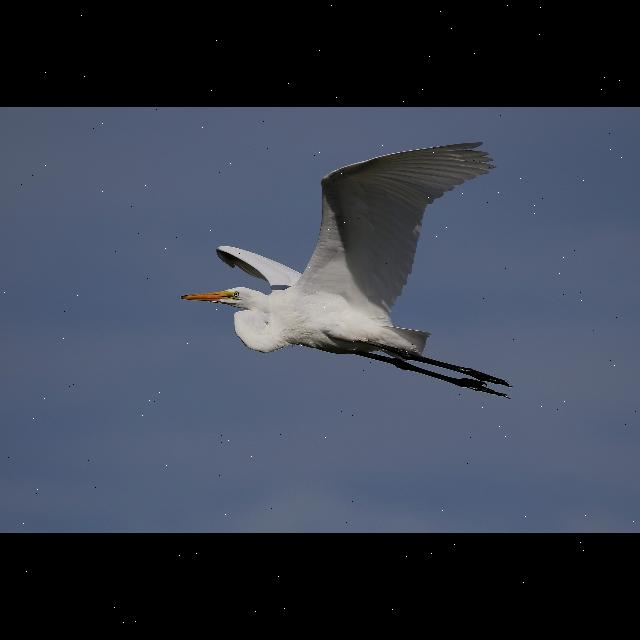egret: (184, 134, 518, 408)
